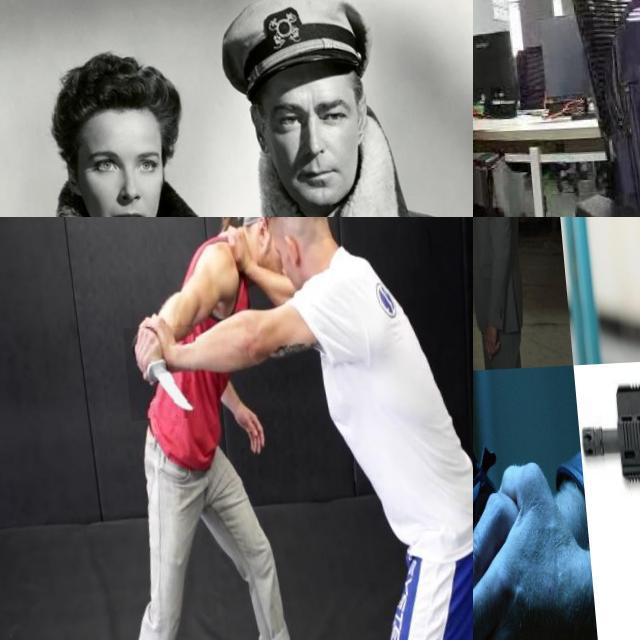-: (120, 327, 196, 423), (473, 142, 488, 217)
gun-knife-thesis - v11 Yolov5 augmented: (473, 420, 577, 640), (568, 359, 640, 640), (473, 217, 494, 243)
